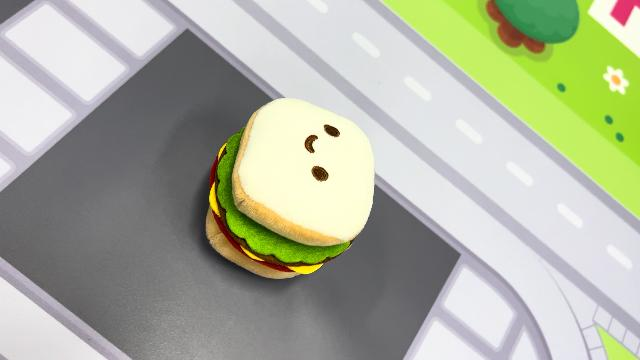sandwich: (202, 95, 378, 281)
